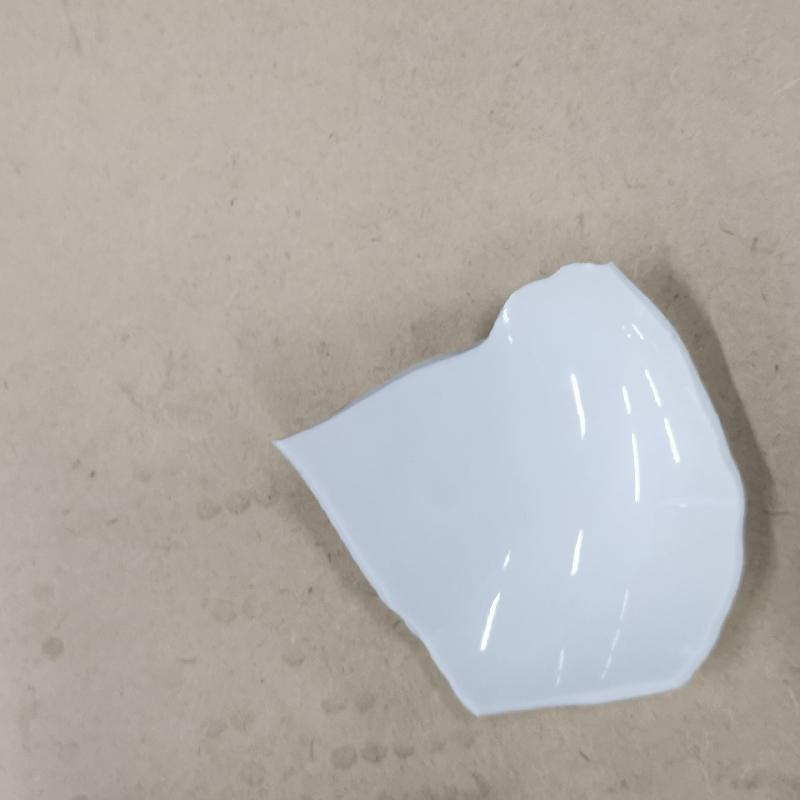ceram: (271, 260, 749, 717)
